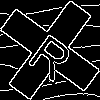R: (25, 25, 82, 83)
